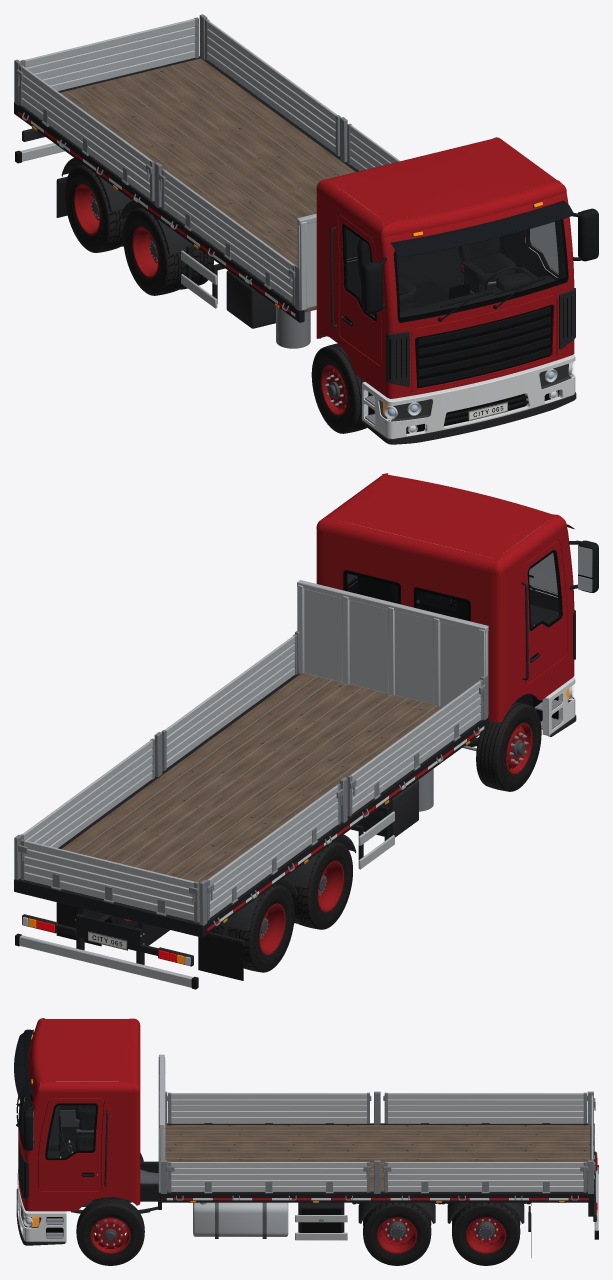
The model's file is flatbed-truck.glb.
3 renders of one model, top to bottom at view 1: azimuth 30°, elevation 25°; view 2: azimuth 150°, elevation 25°; view 3: azimuth 270°, elevation 25°, orthographic. The views are drawn at different scales.
Visible parts, largest first — view 1: Body, Tailgate, Side_Right_Rear, Side_Right_Front, Side_Left_Rear, Wheel_2_Right, Wheel_3_Right, Wheel_1_Right, Side_Left_Front; view 2: Body, Tailgate, Side_Right_Front, Side_Right_Rear, Side_Left_Front, Side_Left_Rear, Wheel_1_Right, Wheel_2_Right, Wheel_3_Right; view 3: Body, Side_Left_Rear, Side_Left_Front, Side_Right_Rear, Side_Right_Front, Wheel_1_Left, Wheel_2_Left, Wheel_3_Left.
Part boxes in pixels (x1,y1,x2,y2): Body: [14, 14, 598, 444]; Tailgate: [20, 17, 198, 91]; Side_Right_Rear: [16, 64, 154, 201]; Side_Right_Front: [159, 169, 295, 305]; Side_Left_Rear: [205, 19, 340, 155]; Wheel_2_Right: [123, 207, 213, 295]; Wheel_3_Right: [64, 164, 127, 252]; Wheel_1_Right: [311, 343, 367, 433]; Side_Left_Front: [347, 123, 400, 170]; Body: [14, 473, 598, 989]; Tailgate: [18, 839, 198, 922]; Side_Right_Front: [347, 679, 485, 816]; Side_Right_Rear: [206, 784, 343, 920]; Side_Left_Front: [161, 634, 297, 770]; Side_Left_Rear: [20, 738, 154, 848]; Wheel_1_Right: [476, 701, 541, 791]; Wheel_2_Right: [290, 841, 352, 929]; Wheel_3_Right: [211, 884, 294, 972]; Body: [14, 1018, 598, 1257]; Side_Left_Rear: [383, 1161, 588, 1193]; Side_Left_Front: [166, 1161, 371, 1193]; Side_Right_Rear: [383, 1092, 587, 1123]; Side_Right_Front: [167, 1092, 371, 1123]; Wheel_1_Left: [76, 1199, 144, 1265]; Wheel_2_Left: [363, 1202, 431, 1265]; Wheel_3_Left: [452, 1202, 520, 1265].
Bounding box in the file's own units: 3.12 × 3.07 × 8.88.
62 materials, 14 textured.
